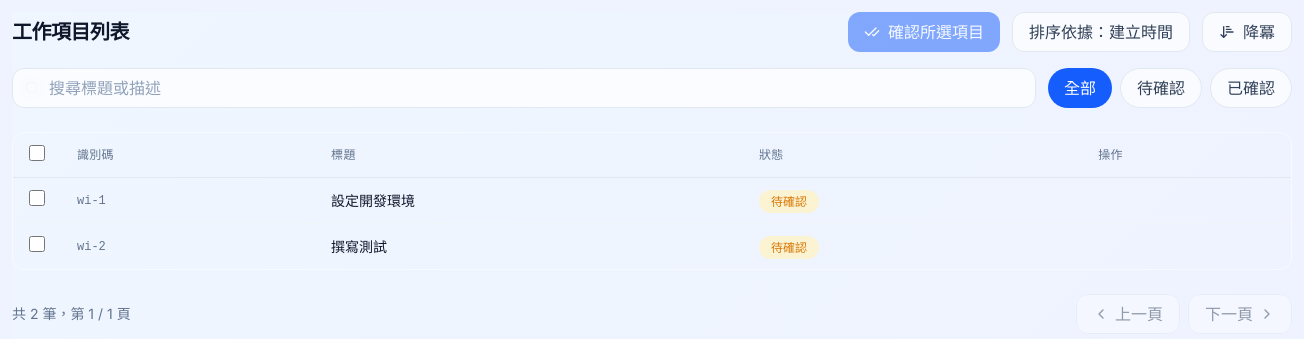
Test: WorkItemsList › select-all 勾選目前可見列後啟用確認並顯示數量
Expected: the link "設定開發環境" is shown, [331, 192, 415, 208]
Step 1. Click the checkbox named "全選目前項目" → coordinates (37, 153), box [29, 145, 45, 161]
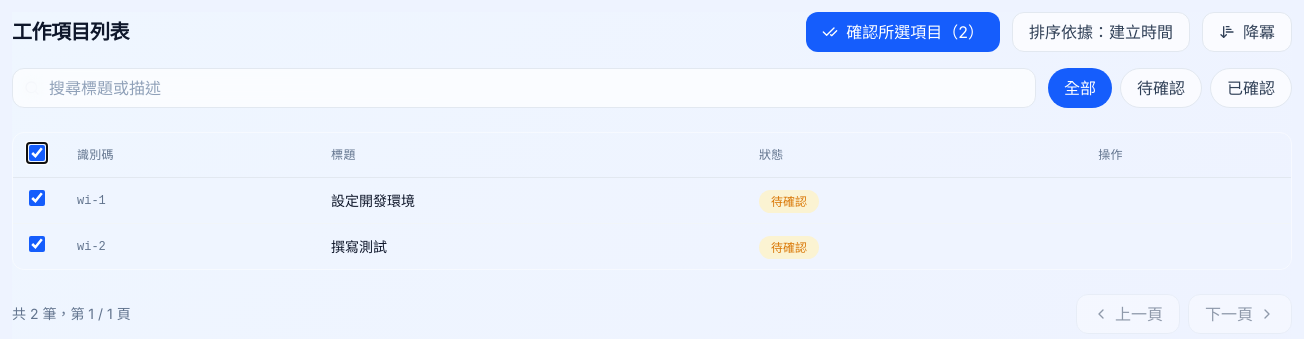
Now the button "確認所選項目（2）" is enabled, box [806, 12, 1000, 52]
